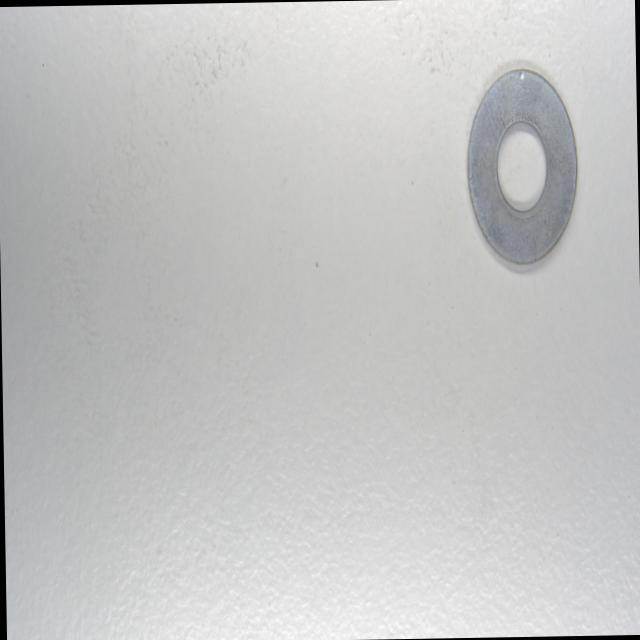washer: (463, 64, 580, 270)
